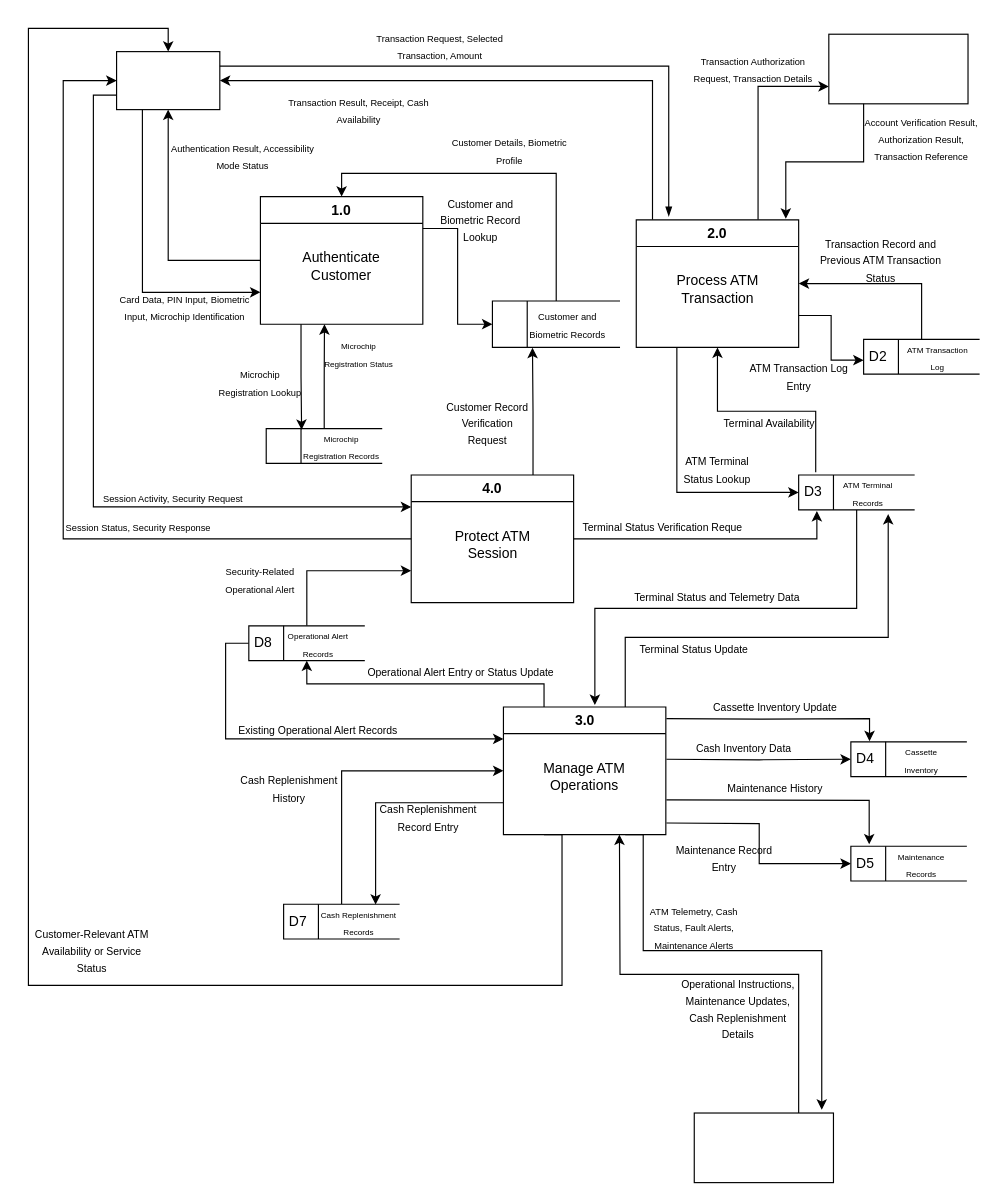
This 1000x1203 diagram has some shape labels left out. The shapes that lost their labels are listed below. From the top down, each one's box as (x1, y1, x2, y2) in pixels, then its label:
(115, 50, 220, 110): Customer
(828, 33, 968, 104): Core Banking System
(491, 300, 620, 347): D1
(265, 427, 382, 463): D6
(693, 1112, 833, 1183): Operations Team
